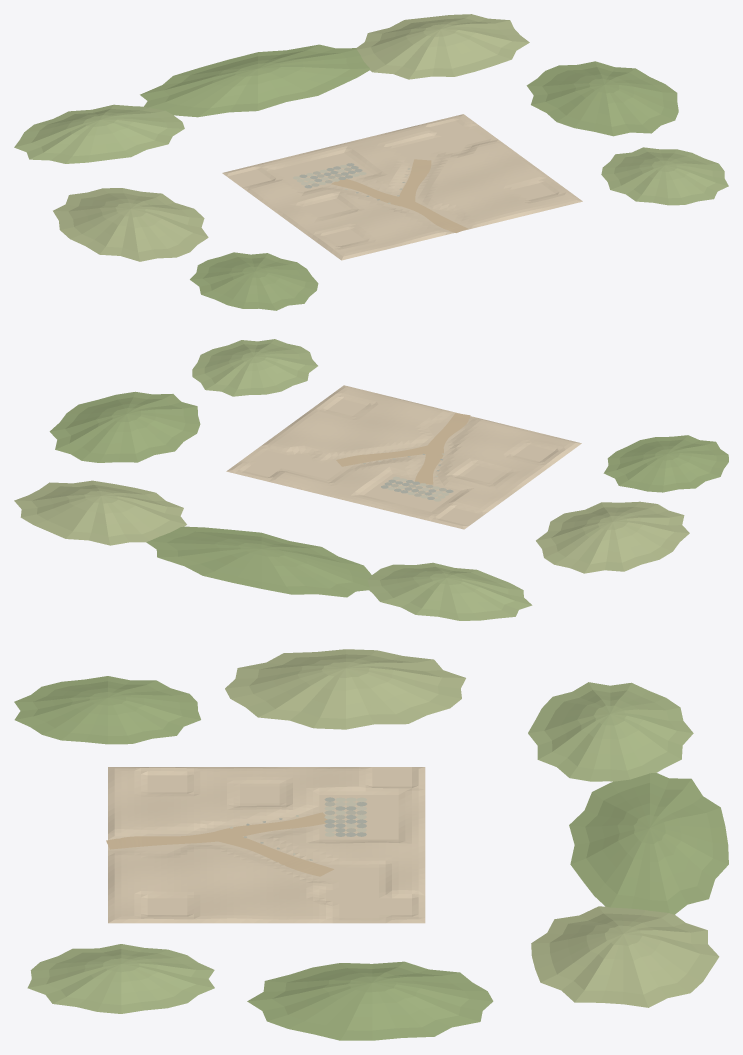
The model's file is PoskoSurface.fbx.
3 views of the same model, one above another, from view 1: azimuth 30°, elevation 25°; view 2: azimuth 150°, elevation 25°; view 3: azimuth 270°, elevation 25° (orthographic). The views are drawn at different scales.
Parts seen in each view (by area): view 1: Posko_Courtyard_Relief, Posko_Planted_Bank_6, Posko_Planted_Bank_2, Posko_Planted_Bank_3, Posko_Planted_Bank_5, Posko_Planted_Bank_4, Posko_Planted_Bank_1, Posko_Planted_Bank_0, Posko_Worn_Walkway_2, Posko_Worn_Walkway_1, Posko_Worn_Walkway_0; view 2: Posko_Courtyard_Relief, Posko_Planted_Bank_6, Posko_Planted_Bank_2, Posko_Planted_Bank_3, Posko_Planted_Bank_5, Posko_Planted_Bank_4, Posko_Planted_Bank_1, Posko_Planted_Bank_0, Posko_Worn_Walkway_2, Posko_Worn_Walkway_1, Posko_Worn_Walkway_0; view 3: Posko_Courtyard_Relief, Posko_Planted_Bank_6, Posko_Planted_Bank_2, Posko_Planted_Bank_3, Posko_Planted_Bank_5, Posko_Planted_Bank_4, Posko_Planted_Bank_1, Posko_Planted_Bank_0, Posko_Worn_Walkway_2, Posko_Worn_Walkway_1, Posko_Worn_Walkway_0, Posko_Fieldstone_2.
Part boxes in pixels (x1=…): Posko_Courtyard_Relief: x1=222, y1=114, x2=582, y2=260; Posko_Planted_Bank_6: x1=140, y1=44, x2=369, y2=117; Posko_Planted_Bank_2: x1=53, y1=188, x2=208, y2=261; Posko_Planted_Bank_3: x1=526, y1=61, x2=678, y2=136; Posko_Planted_Bank_5: x1=356, y1=14, x2=529, y2=79; Posko_Planted_Bank_4: x1=14, y1=104, x2=184, y2=163; Posko_Planted_Bank_1: x1=601, y1=147, x2=728, y2=205; Posko_Planted_Bank_0: x1=190, y1=252, x2=318, y2=310; Posko_Worn_Walkway_2: x1=399, y1=159, x2=431, y2=203; Posko_Worn_Walkway_1: x1=331, y1=179, x2=411, y2=206; Posko_Worn_Walkway_0: x1=399, y1=201, x2=467, y2=232; Posko_Courtyard_Relief: x1=226, y1=385, x2=581, y2=529; Posko_Planted_Bank_6: x1=146, y1=526, x2=371, y2=597; Posko_Planted_Bank_2: x1=536, y1=501, x2=689, y2=573; Posko_Planted_Bank_3: x1=49, y1=391, x2=200, y2=462; Posko_Planted_Bank_5: x1=14, y1=480, x2=186, y2=545; Posko_Planted_Bank_4: x1=367, y1=562, x2=532, y2=620; Posko_Planted_Bank_1: x1=192, y1=339, x2=317, y2=396; Posko_Planted_Bank_0: x1=603, y1=435, x2=728, y2=492; Posko_Worn_Walkway_2: x1=336, y1=444, x2=436, y2=466; Posko_Worn_Walkway_1: x1=415, y1=447, x2=443, y2=484; Posko_Worn_Walkway_0: x1=427, y1=413, x2=470, y2=449; Posko_Courtyard_Relief: x1=108, y1=767, x2=425, y2=923; Posko_Planted_Bank_6: x1=569, y1=773, x2=728, y2=914; Posko_Planted_Bank_2: x1=225, y1=649, x2=465, y2=729; Posko_Planted_Bank_3: x1=247, y1=961, x2=493, y2=1040; Posko_Planted_Bank_5: x1=531, y1=906, x2=719, y2=1007; Posko_Planted_Bank_4: x1=528, y1=682, x2=693, y2=781; Posko_Planted_Bank_1: x1=27, y1=944, x2=214, y2=1013; Posko_Planted_Bank_0: x1=14, y1=676, x2=200, y2=744; Posko_Worn_Walkway_2: x1=213, y1=836, x2=333, y2=876; Posko_Worn_Walkway_1: x1=216, y1=812, x2=327, y2=840; Posko_Worn_Walkway_0: x1=106, y1=831, x2=222, y2=849; Posko_Fieldstone_2: x1=246, y1=797, x2=367, y2=836.
Size of the model in its own units: 7011 by 192 by 5410.
